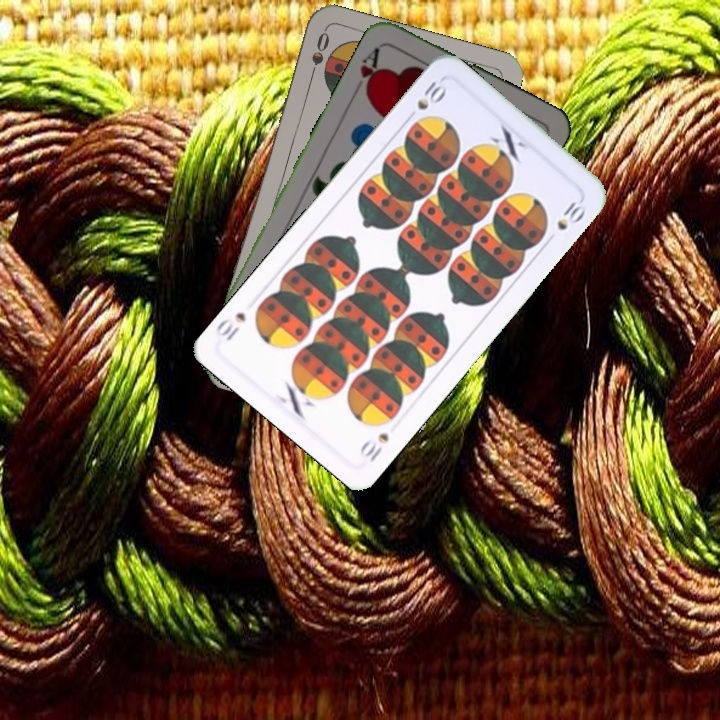HA: (356, 41, 384, 99)
S10: (402, 73, 450, 124), (355, 428, 392, 464)
SO: (305, 28, 332, 85)
